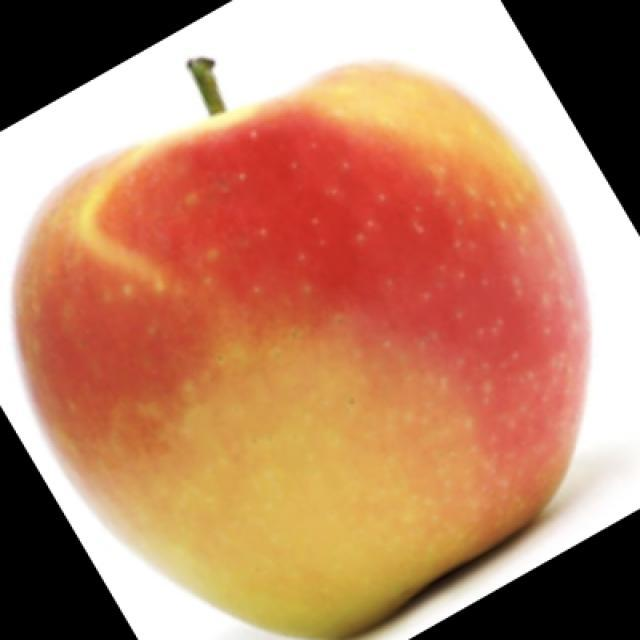Fresh Apple: (73, 55, 600, 627)
